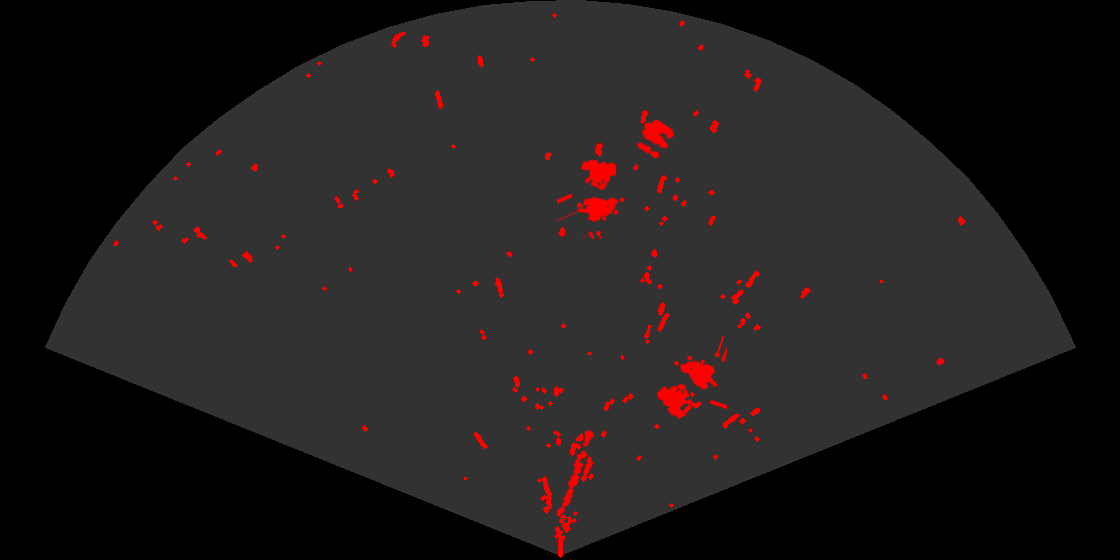ball: (635, 118, 676, 160)
cage: (655, 336, 727, 421), (557, 158, 627, 239)
chain: (554, 428, 596, 518)
